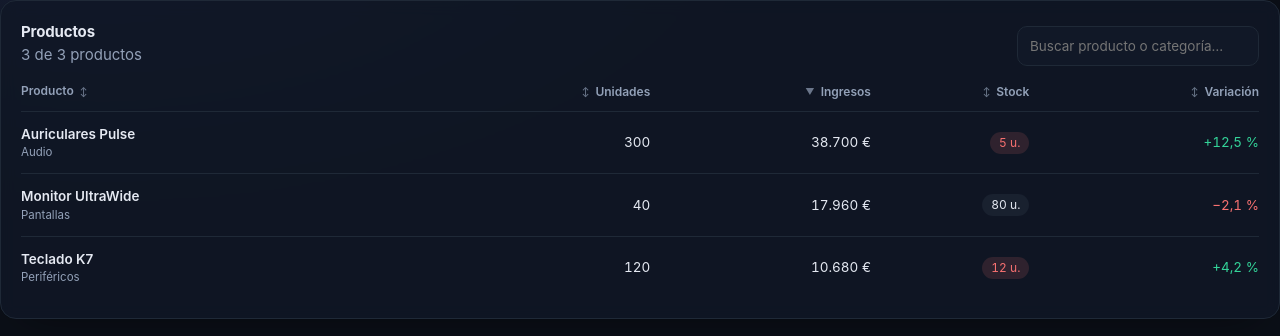
Test: ProductsTable › filtra por nombre o categoría
Type "audio" into the search field at (1138, 46), box [1017,26,1259,66]
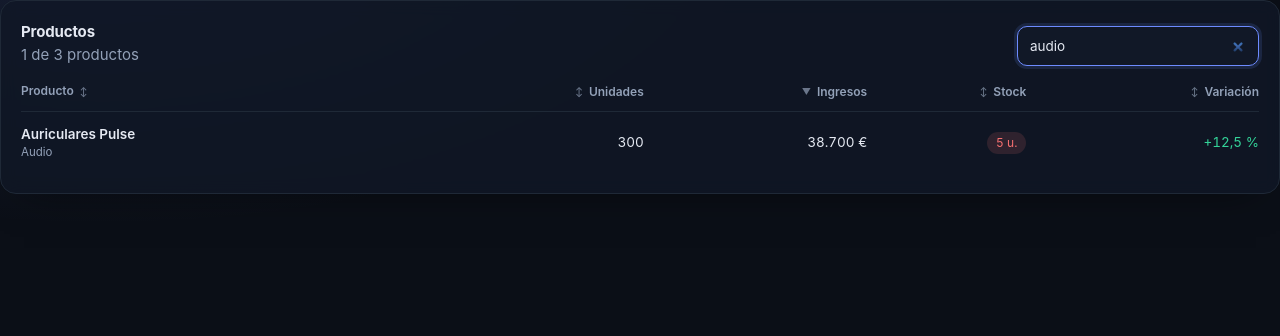
expect the text "Auriculares Pulse" is shown: met, box [21,126,135,142]
expect the number of rows is 2: met, box [21,82,1259,111]; [21,111,1259,173]
Replace the text in the search field with "zzz" at (1138, 46), box [1017,26,1259,66]
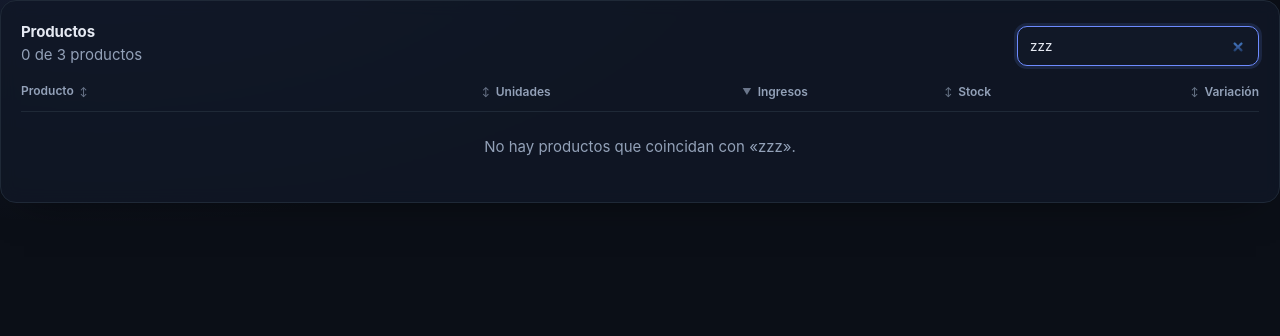
expect the message shows "No hay productos": met, box [484,137,758,156]
